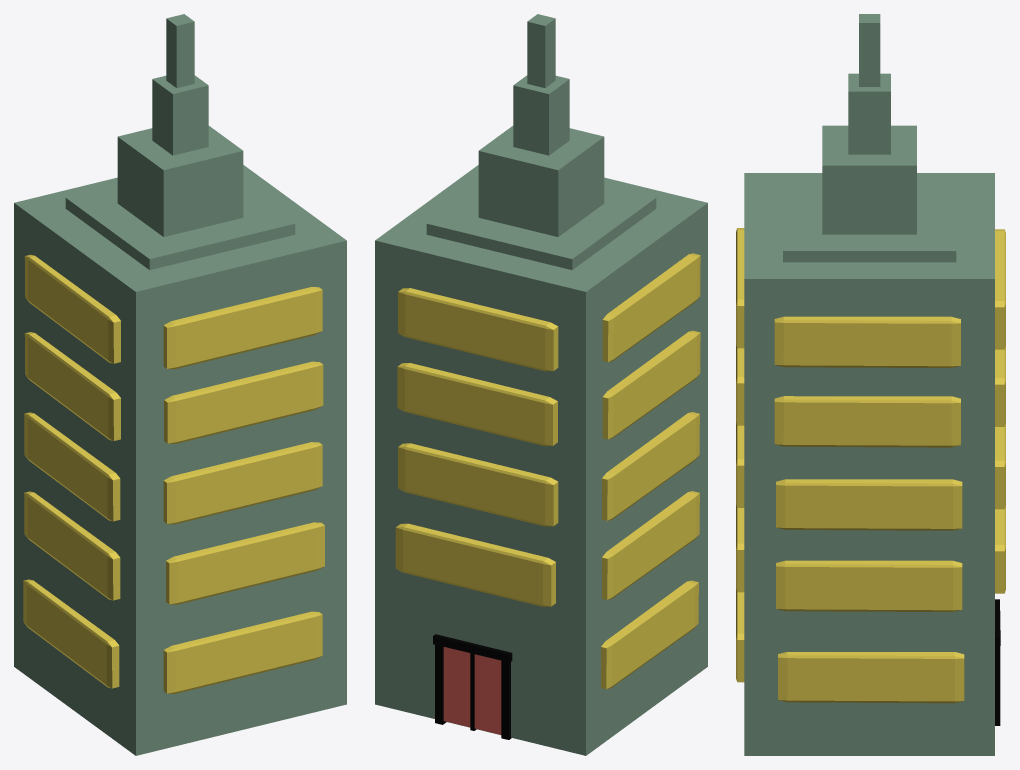
Rendered from building3.fbx.
The picture shows the model from 3 angles, left to right: view 1: azimuth 30°, elevation 25°; view 2: azimuth 150°, elevation 25°; view 3: azimuth 270°, elevation 25°; orthographic projection. The views are drawn at different scales.
Visible parts, largest first — view 1: Cube.084, Cube.009, Cube.003, Cube.004, Cube.011, Cube.010, Cube.018, Cube.020, Cube.019, Cube.016, Cube.017; view 2: Cube.084, Cube.002, Cube.007, Cube.008, Cube.006, Cube.017, Cube.016, Cube.019, Cube.020, Cube.018, Cube.088, Cube.087 (+2 smaller); view 3: Cube.084, Cube.005, Cube.014, Cube.013, Cube.012, Cube.015, Cube.002, Cube.003, Cube.008, Cube.007, Cube.006, Cube.011 (+4 smaller).
Boxes of the visible parts, x1,y1,x2,y2 form: Cube.084: [14, 14, 346, 755]; Cube.009: [163, 442, 322, 524]; Cube.003: [163, 287, 322, 369]; Cube.004: [164, 361, 323, 443]; Cube.011: [163, 611, 322, 693]; Cube.010: [166, 522, 324, 604]; Cube.018: [24, 412, 120, 521]; Cube.020: [23, 579, 119, 688]; Cube.019: [24, 491, 120, 600]; Cube.016: [24, 254, 120, 363]; Cube.017: [24, 332, 120, 440]; Cube.084: [375, 14, 707, 755]; Cube.002: [398, 288, 558, 371]; Cube.007: [398, 443, 558, 526]; Cube.008: [395, 523, 555, 606]; Cube.006: [397, 363, 557, 446]; Cube.017: [602, 330, 700, 439]; Cube.016: [602, 253, 700, 362]; Cube.019: [602, 491, 699, 599]; Cube.020: [601, 580, 698, 689]; Cube.018: [602, 412, 699, 520]; Cube.088: [443, 647, 501, 734]; Cube.087: [433, 634, 512, 662]; Cube.084: [744, 14, 994, 755]; Cube.005: [774, 316, 960, 367]; Cube.014: [776, 560, 962, 611]; Cube.013: [776, 479, 962, 530]; Cube.012: [774, 396, 960, 447]; Cube.015: [778, 652, 964, 703]; Cube.002: [995, 229, 1005, 349]; Cube.003: [736, 228, 744, 348]; Cube.008: [995, 506, 1005, 593]; Cube.007: [995, 423, 1005, 509]; Cube.006: [995, 346, 1005, 426]; Cube.011: [736, 589, 744, 682].
Size of the model in its own units: 488 by 1357 by 484.
